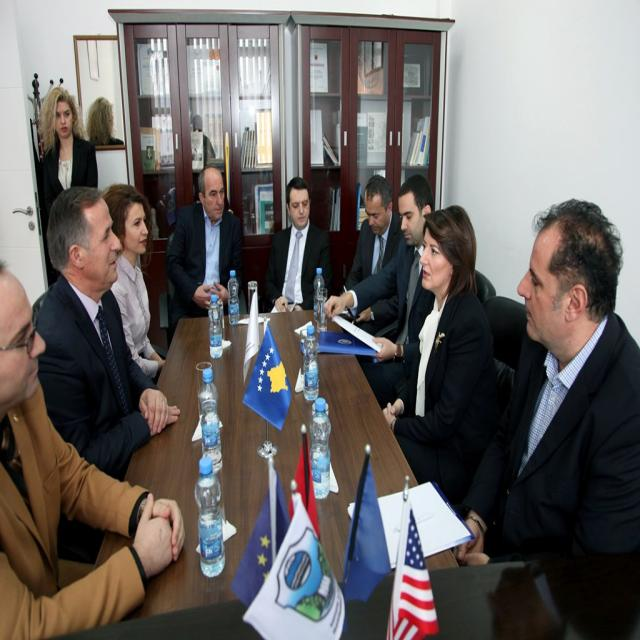body: (451, 197, 640, 640), (0, 260, 188, 639), (30, 182, 184, 485), (381, 202, 499, 507), (322, 172, 436, 412), (67, 89, 227, 186), (102, 183, 166, 385), (165, 163, 245, 321), (38, 86, 98, 292), (338, 172, 404, 346), (261, 175, 336, 314)
